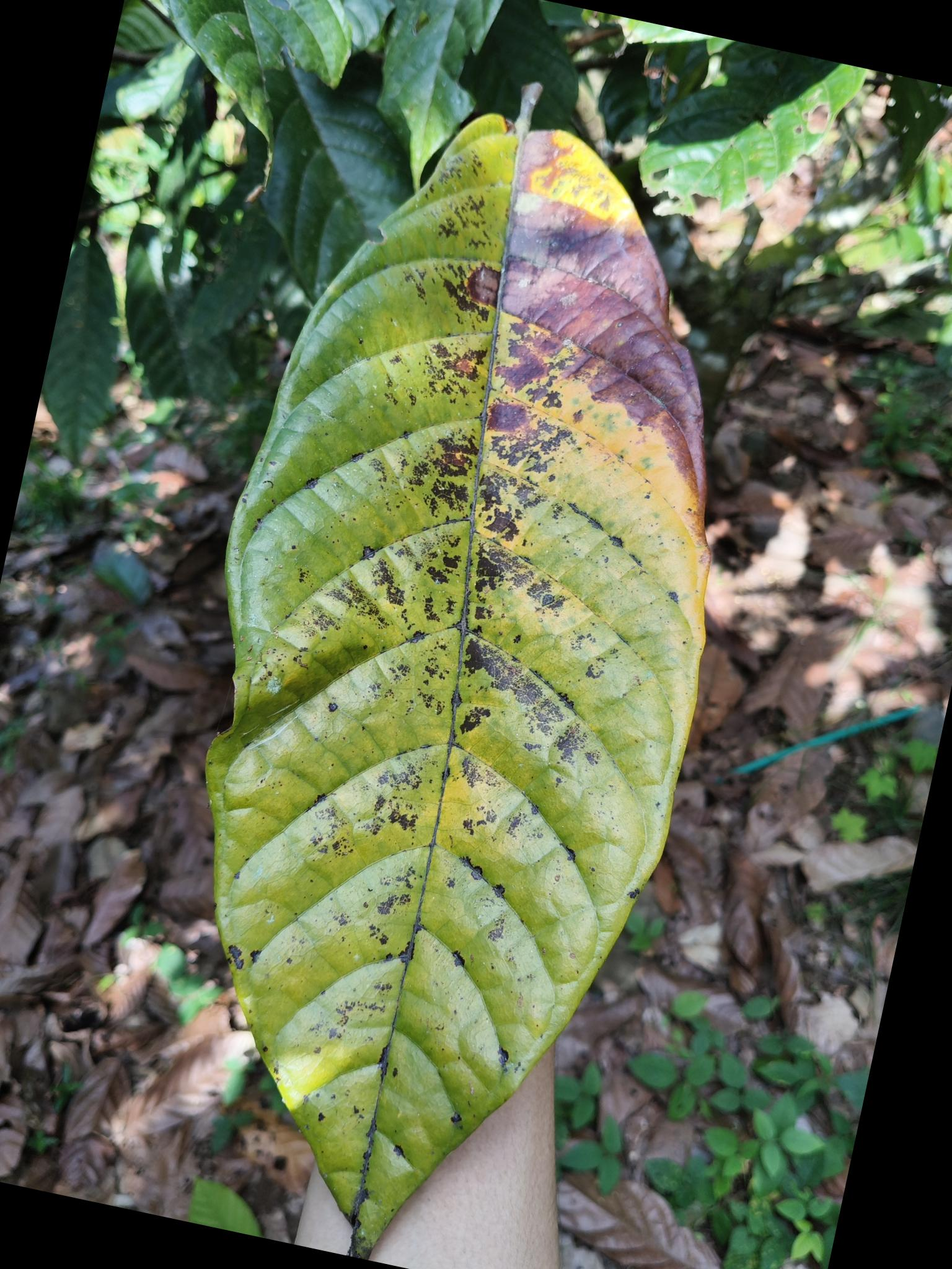Fosforo: (226, 115, 686, 1258)
